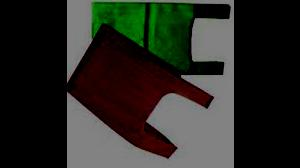Plastic: (67, 23, 214, 165), (78, 0, 229, 78)
